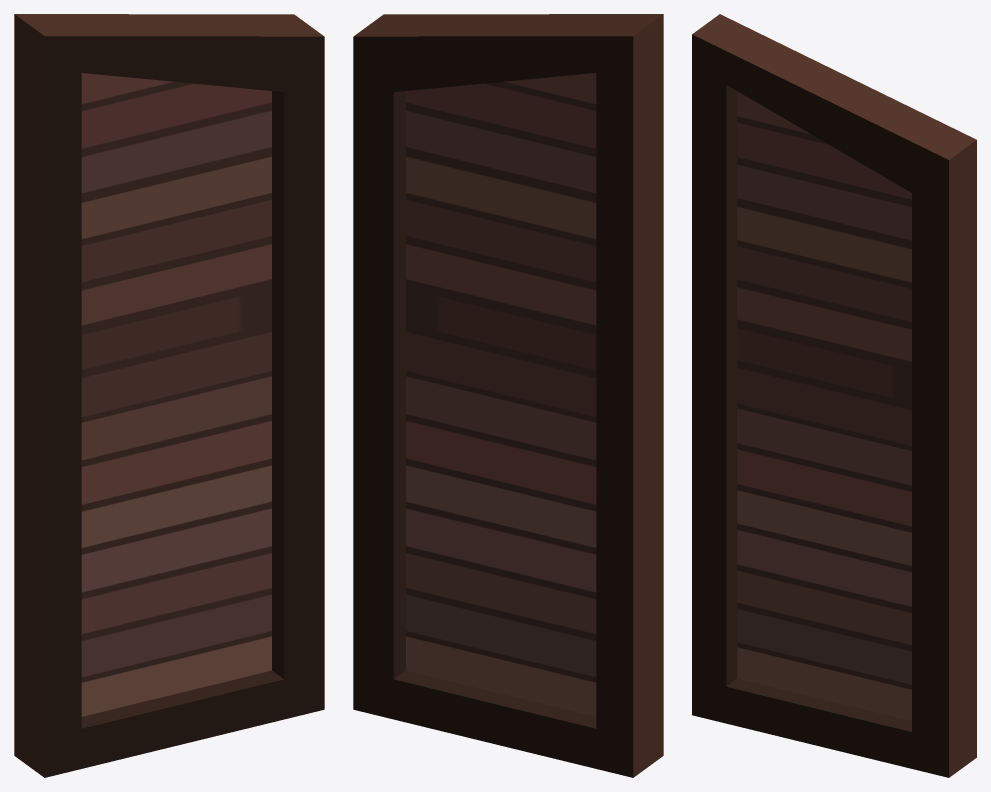
File: Door 12.glb
3 renders of one model, left to right at view 1: azimuth 30°, elevation 25°; view 2: azimuth 150°, elevation 25°; view 3: azimuth 330°, elevation 25°, orthographic. The views are drawn at different scales.
Visible parts, largest first — view 1: Door 14A2; view 2: Door 14A2; view 3: Door 14A2.
Boxes of the visible parts, x1,y1,x2,y2 form: Door 14A2: [14, 14, 324, 777]; Door 14A2: [353, 14, 663, 777]; Door 14A2: [692, 14, 976, 777].
Size of what is drawn, in the model's own units: 0.4858 by 1.23 by 0.0911.
2 materials, 2 textured.
